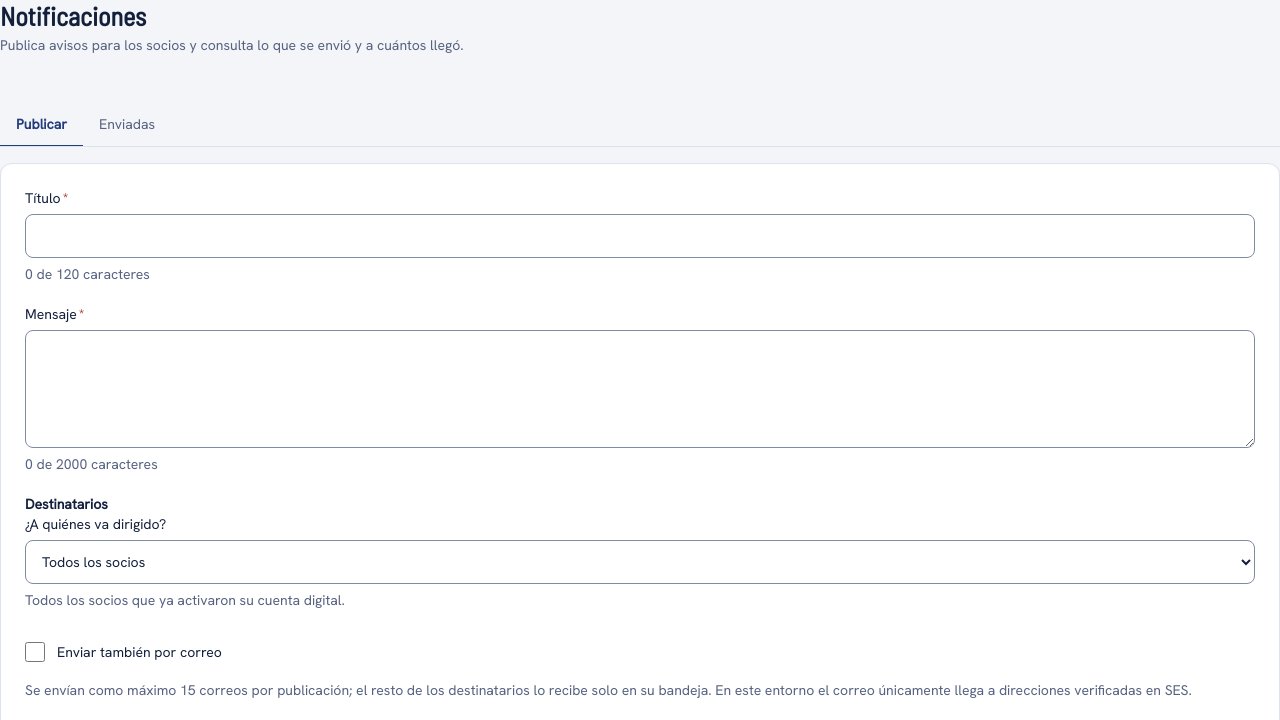
Test case: NotificationsAdminPage › estructura › guarda la pestaña en la URL y abre "Enviadas" con ?tab=enviadas
Click the tab "Enviadas" at (127, 125), box [83,103,171,147]
(page scrolled)
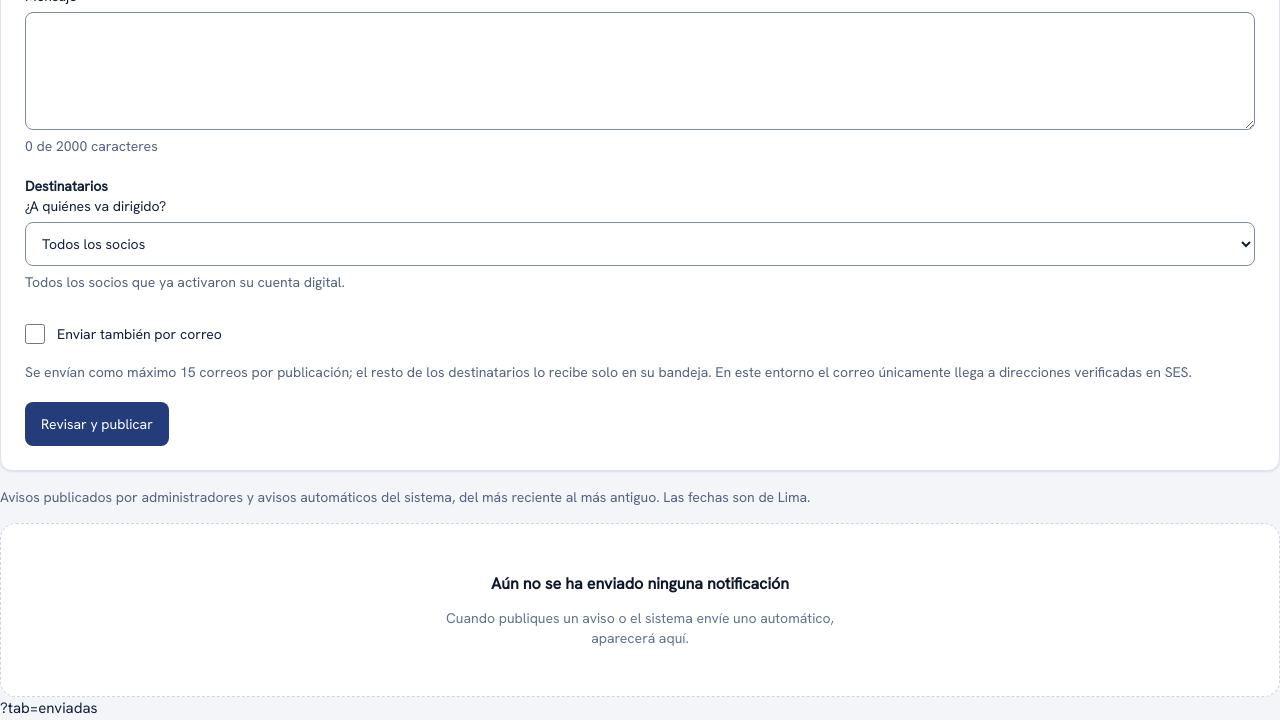
Result: the text with test id "location" shows "tab=enviadas" at [0,698,98,718]
Result: the heading "Aún no se ha enviado ninguna notificación" is shown at [491,572,789,596]
